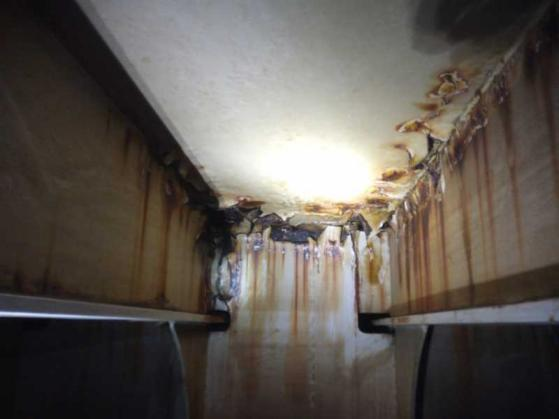corrosion: (235, 248, 356, 387), (135, 135, 208, 308), (480, 81, 535, 274), (380, 202, 482, 301), (447, 121, 499, 280), (524, 28, 559, 213), (222, 188, 312, 243), (311, 205, 372, 253), (393, 100, 454, 140), (425, 61, 479, 104), (378, 158, 423, 203)
